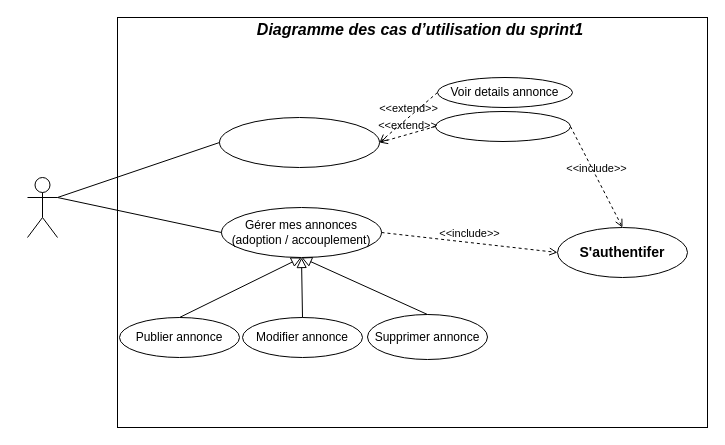
Image size: 725x445. Some labels were removed from this diagram. The centre of each missing label's shape, as x and y in pixels:
Ajouter à la wishlist: the point at 502,126
Consulter les animaux (adoption / accouplement): the point at 299,142
Utilsateur: the point at 42,207
